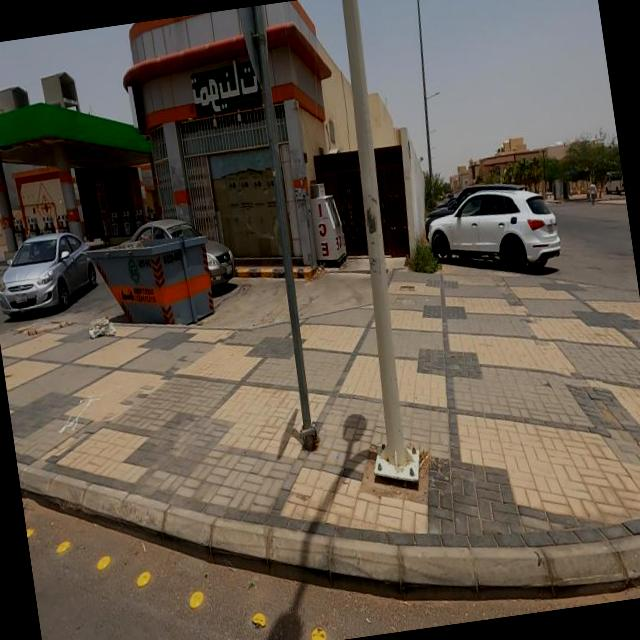debris: (40, 262, 158, 390)
